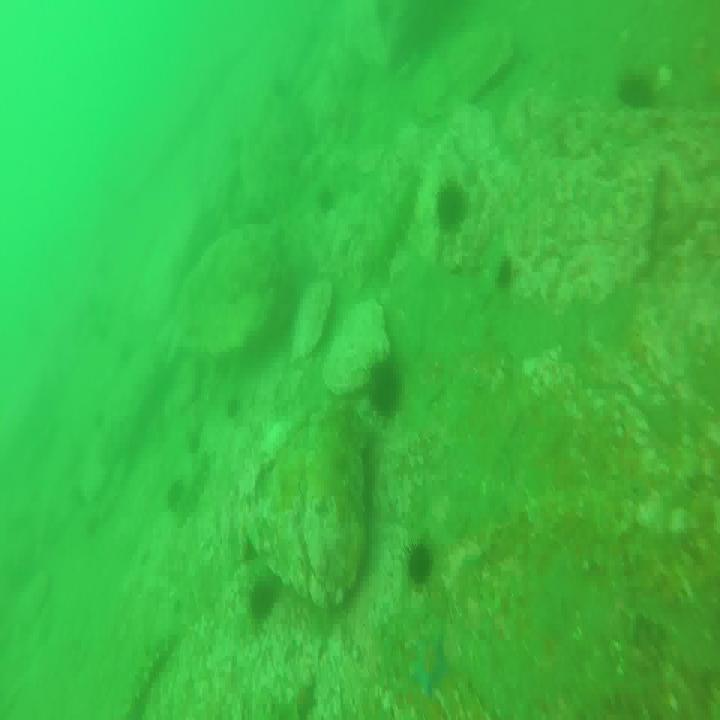echinus: (369, 361, 403, 425), (440, 176, 470, 241), (617, 72, 657, 118), (251, 578, 275, 628), (410, 543, 435, 590), (496, 258, 519, 289), (226, 391, 243, 422)
starfish: (409, 636, 454, 699)
